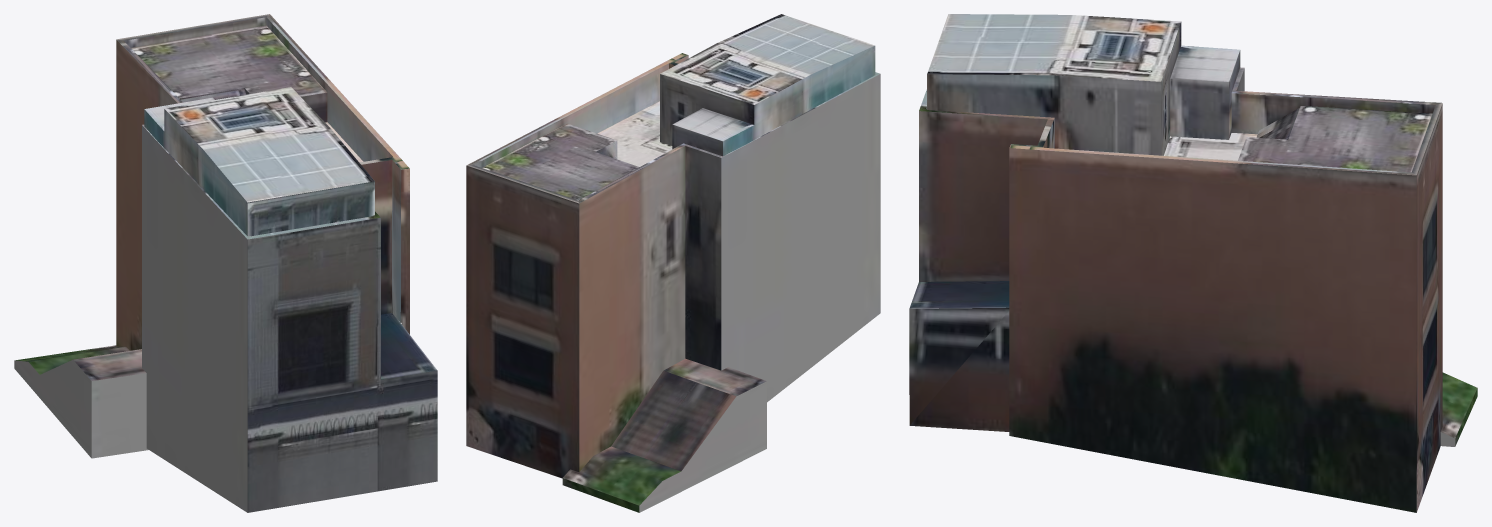
The picture shows the model from 3 angles, left to right: view 1: azimuth 30°, elevation 25°; view 2: azimuth 150°, elevation 25°; view 3: azimuth 270°, elevation 25°; orthographic projection. The views are drawn at different scales.
Visible parts, largest first — view 1: B280444033601063A0; view 2: B280444033601063A0; view 3: B280444033601063A0.
Part boxes in pixels (x1,y1,x2,y2): B280444033601063A0: [14, 14, 437, 512]; B280444033601063A0: [466, 14, 880, 512]; B280444033601063A0: [909, 14, 1477, 512].
Size of the model in its own units: 8.54 by 11.29 by 15.31.
Materials: 2 (2 with a texture image).
